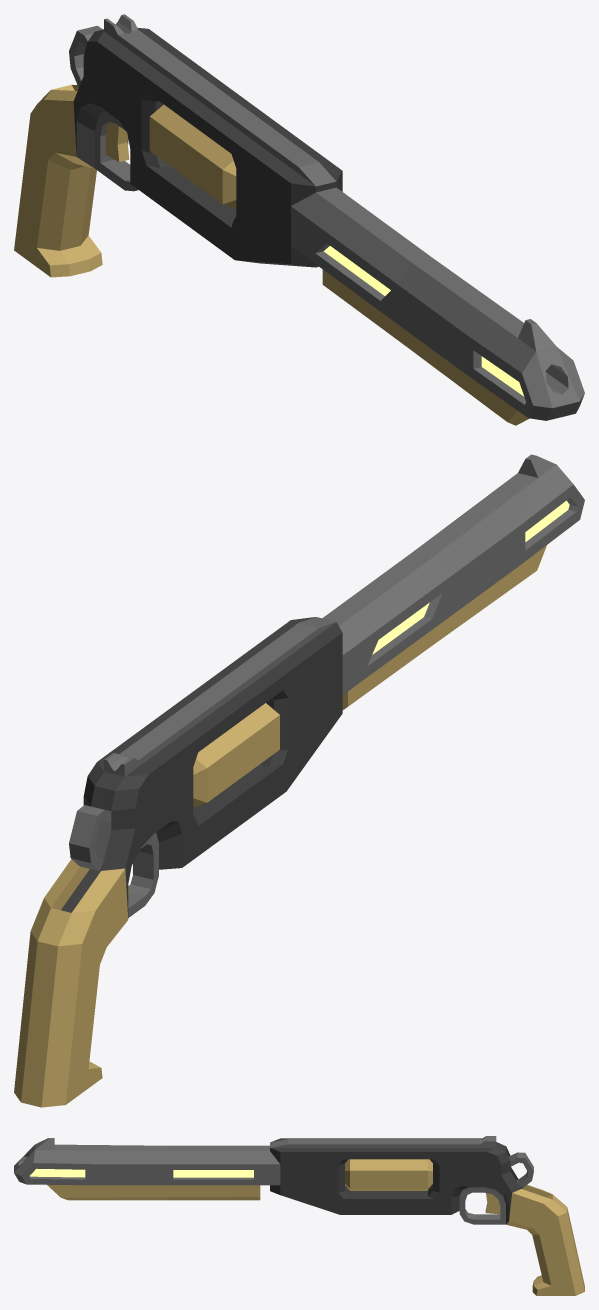
File: Compensator.fbx
3 renders of one model, top to bottom at view 1: azimuth 30°, elevation 25°; view 2: azimuth 150°, elevation 25°; view 3: azimuth 270°, elevation 25°, orthographic. The views are drawn at different scales.
Parts seen in each view (by area): view 1: Compensator; view 2: Compensator; view 3: Compensator.
Boxes of the visible parts, bbox=[...] form: Compensator: bbox=[14, 14, 584, 425]; Compensator: bbox=[14, 454, 584, 1107]; Compensator: bbox=[14, 1136, 584, 1295].
Bounding box in the file's own units: 35.4 × 166 × 571.
